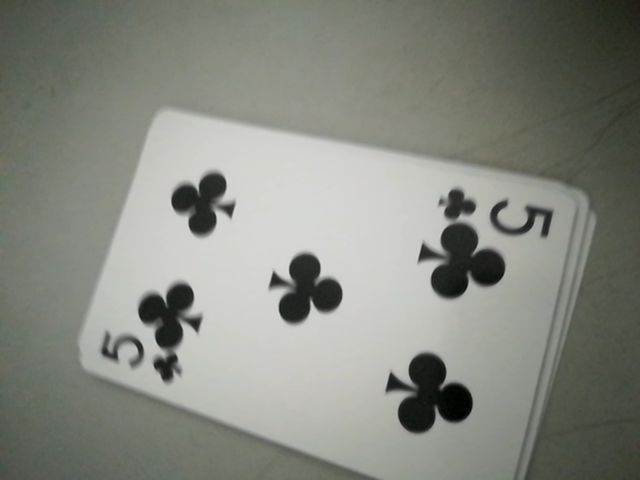mh 5: (438, 185, 561, 236), (96, 332, 185, 387)
